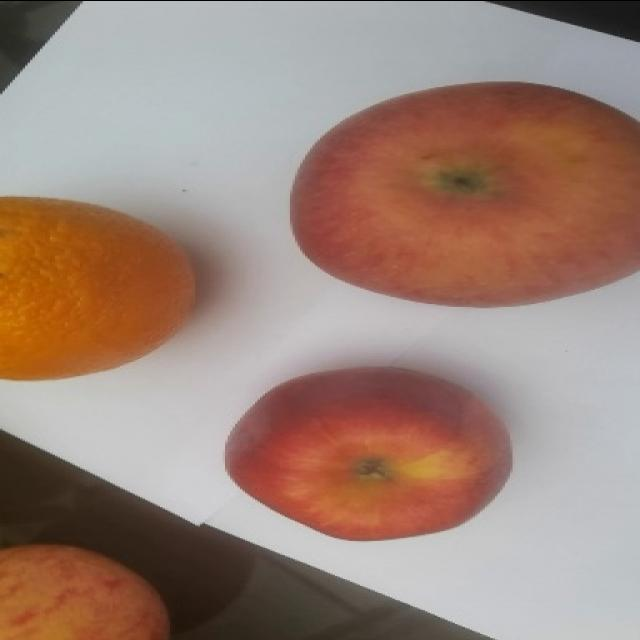Apple: (283, 78, 640, 305), (224, 368, 516, 543), (0, 538, 170, 640)
Orange: (0, 193, 204, 383)
